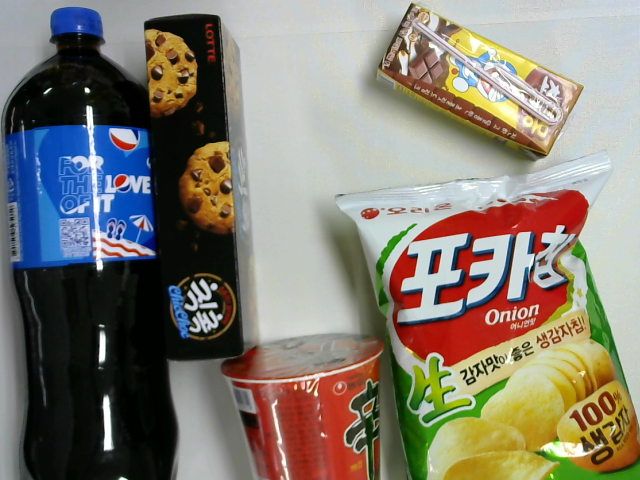Chicchok_Original_2400: (142, 14, 257, 361)
Choco_E_Mong: (368, 1, 587, 159)
Pepsi_Cola_1.5L: (5, 8, 181, 480)
Pocachip_Onion: (333, 150, 640, 480)
Sinramen_small: (221, 331, 383, 480)
